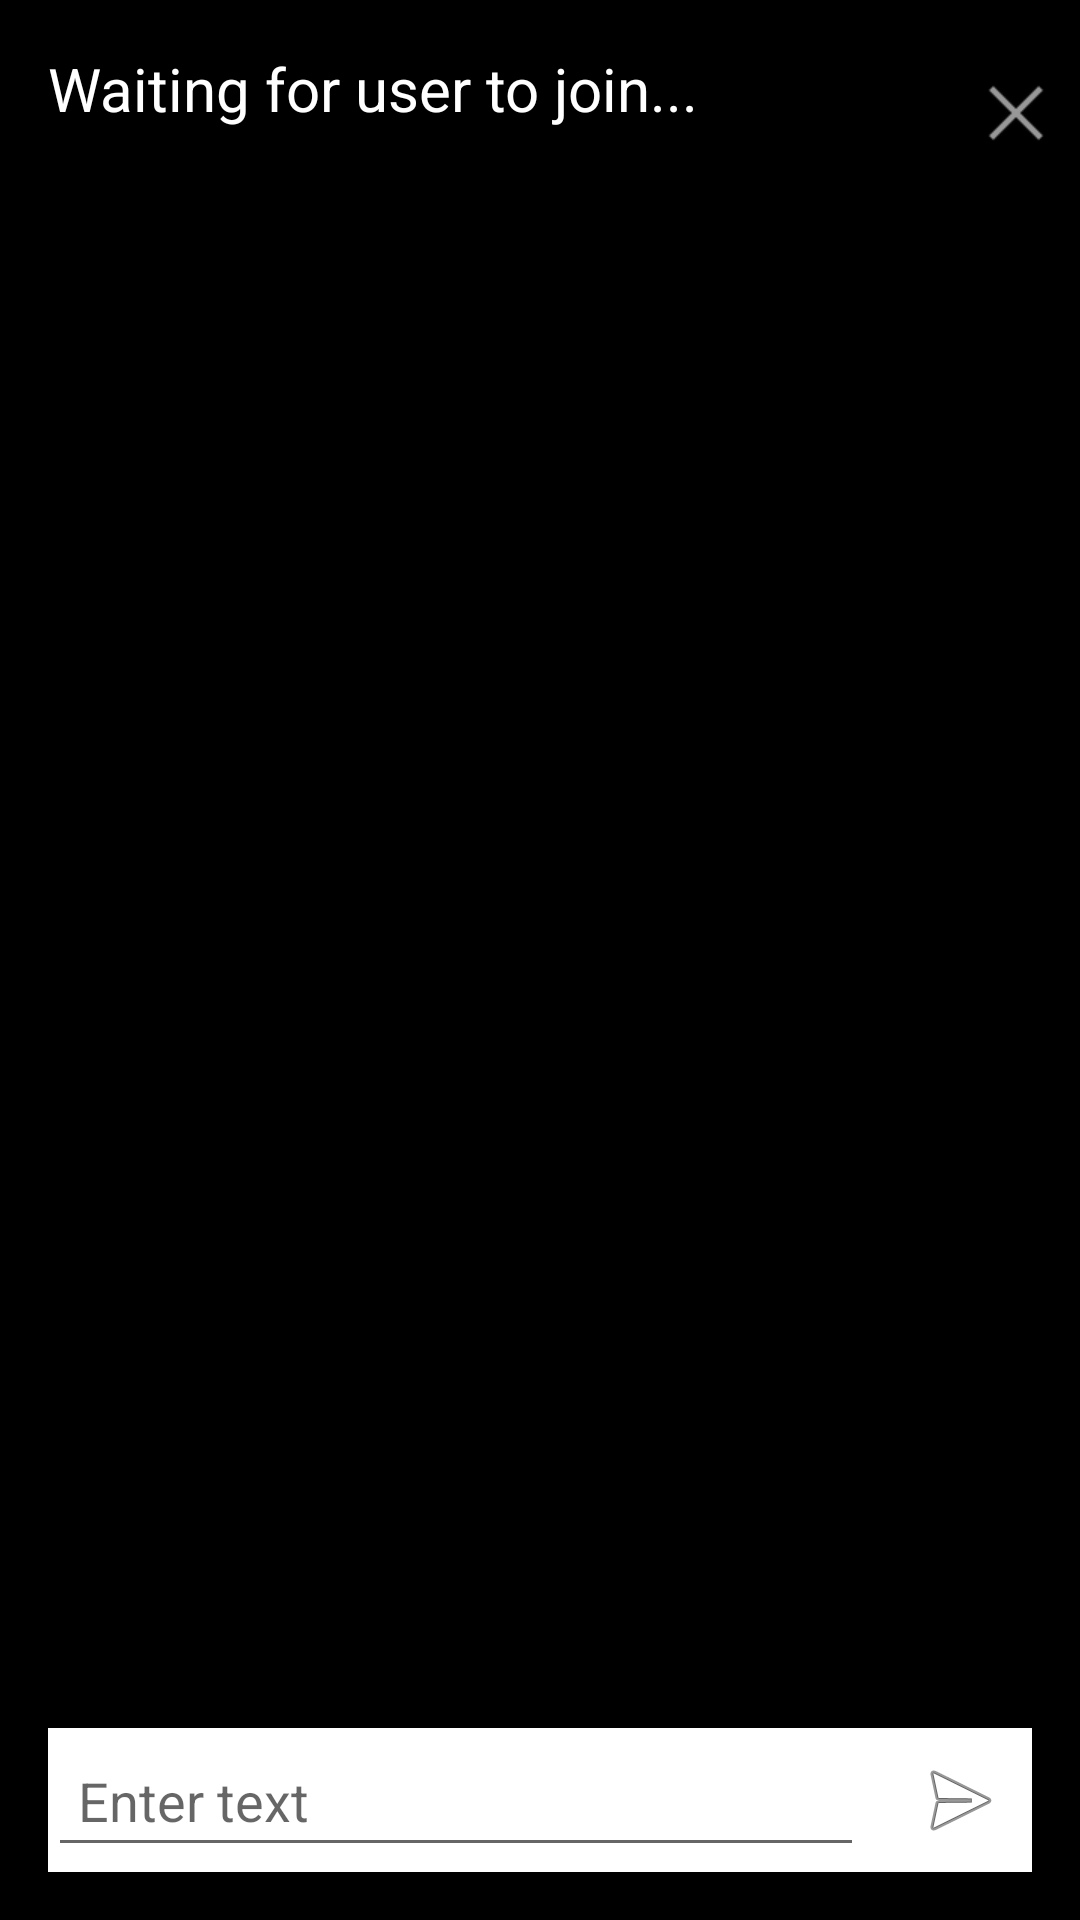

Point at icon controls on the screen. Image size 1080*1920, points as [x,y].
close clear cancel: [1016,113]
send: [960,1800]
